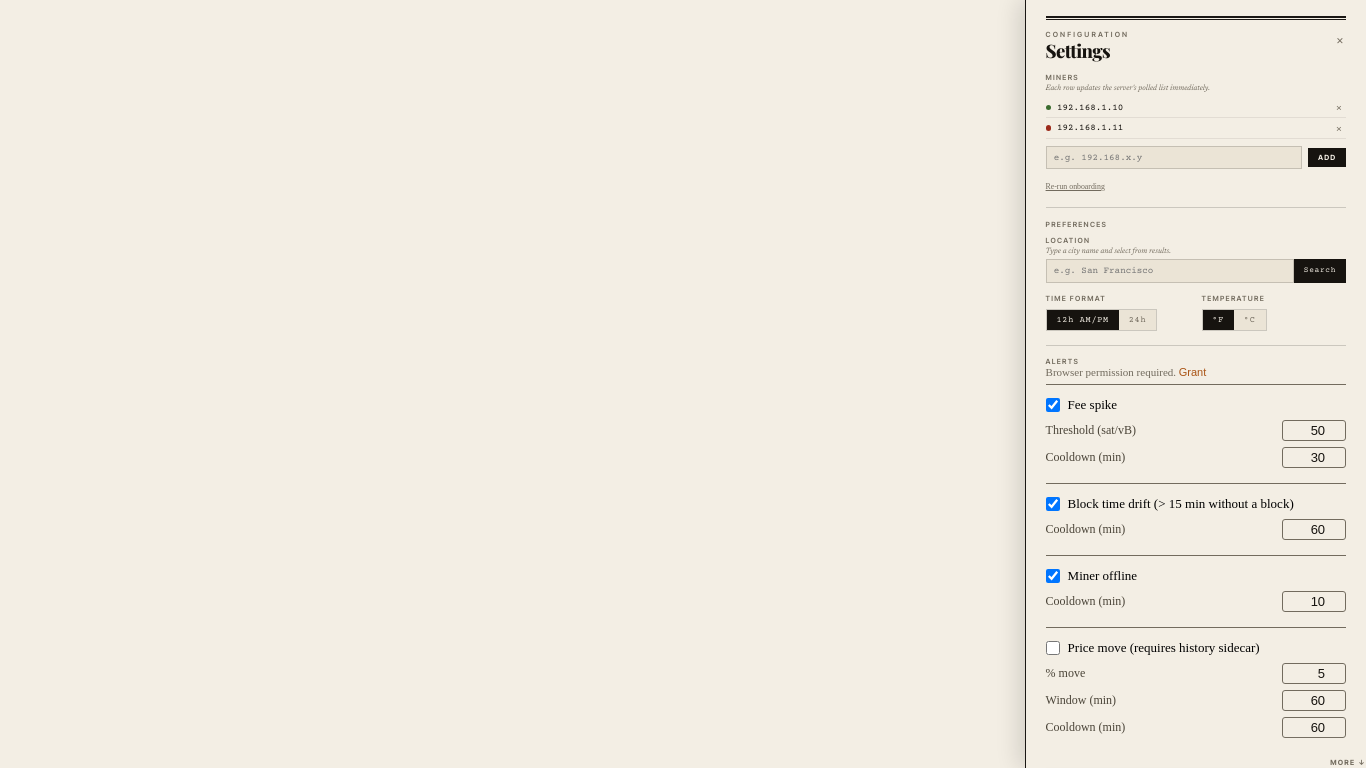
Test: SettingsPanel — Miners (row-based) › blocks duplicates in the UI
Type "192.168.1.10" into the field named "Add miner IP".
click(1174, 158); type("192.168.1.10")  # box [1046, 146, 1302, 169]
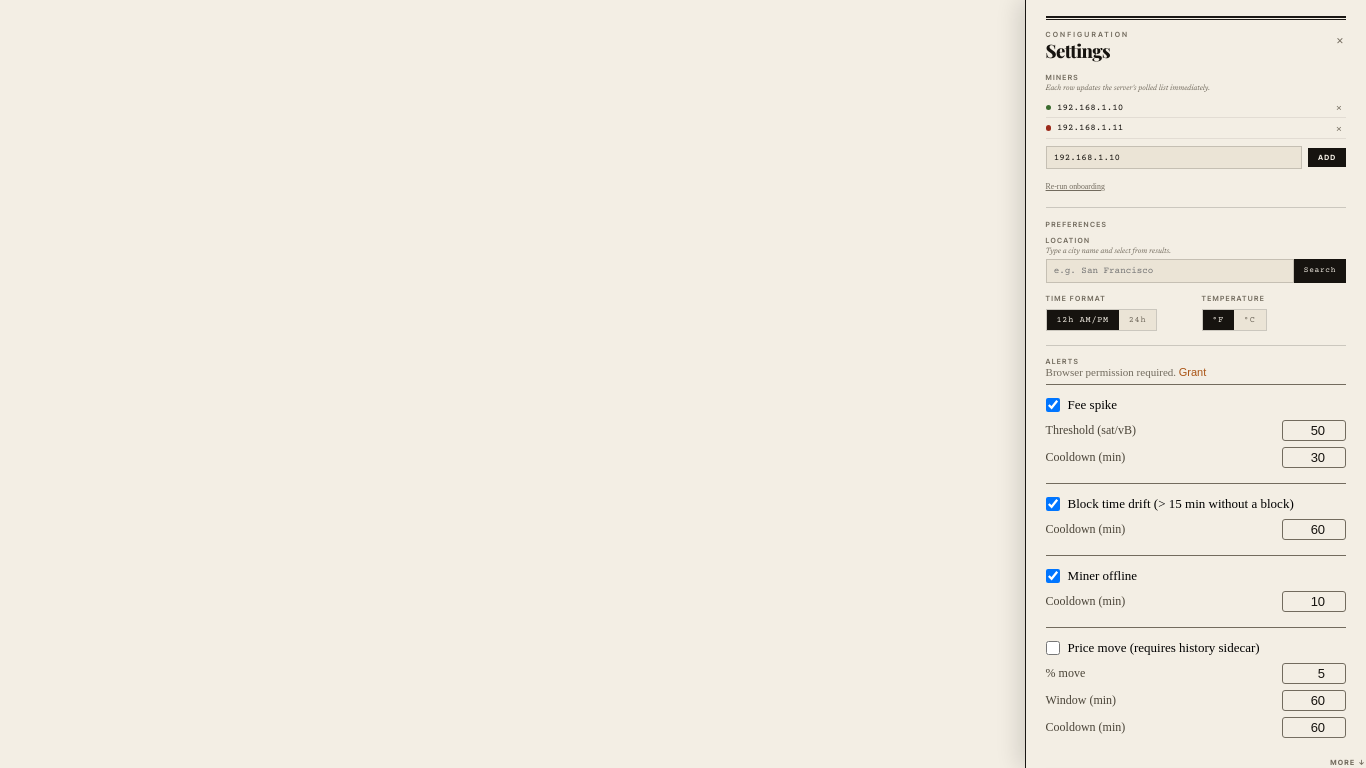
Click the button "Add".
click(1327, 158)  # box [1308, 148, 1346, 167]
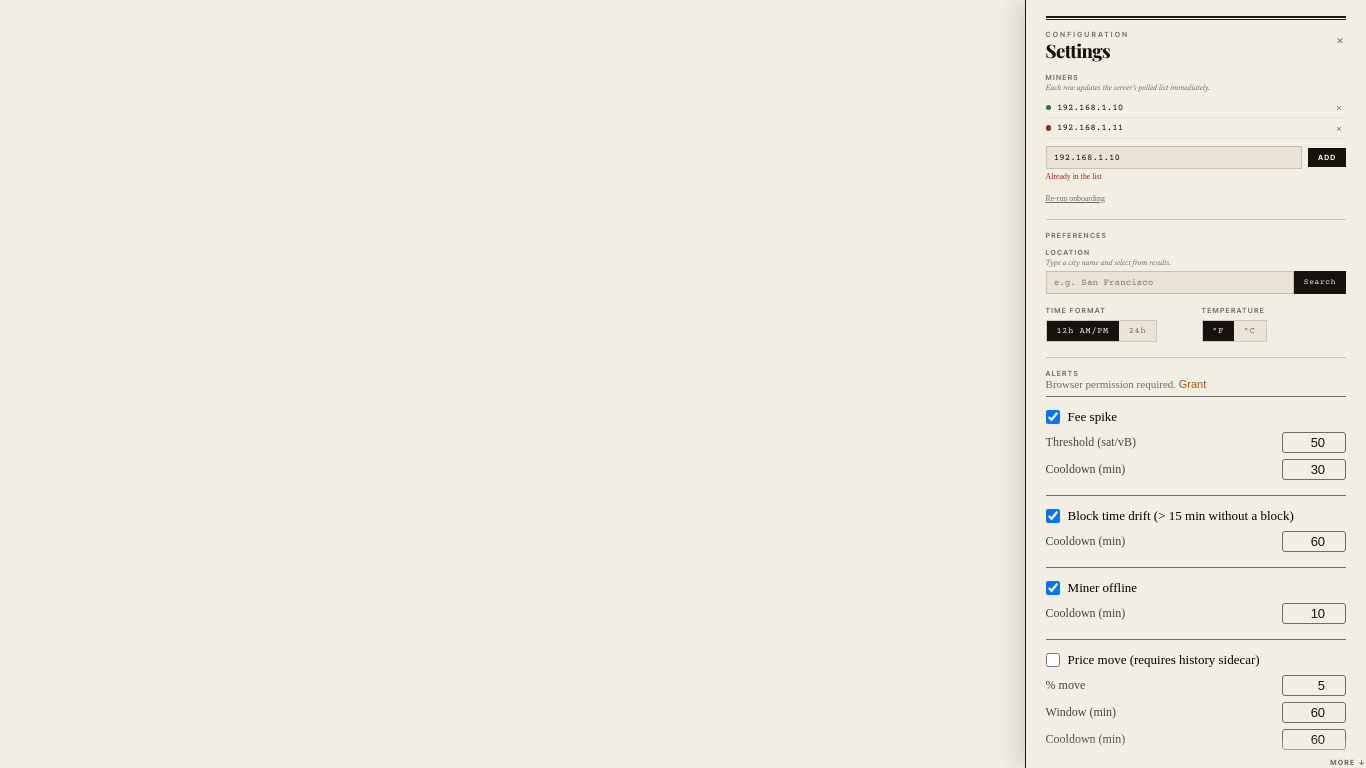
Now the text "Already in the list" is shown, box [1046, 172, 1102, 181]
